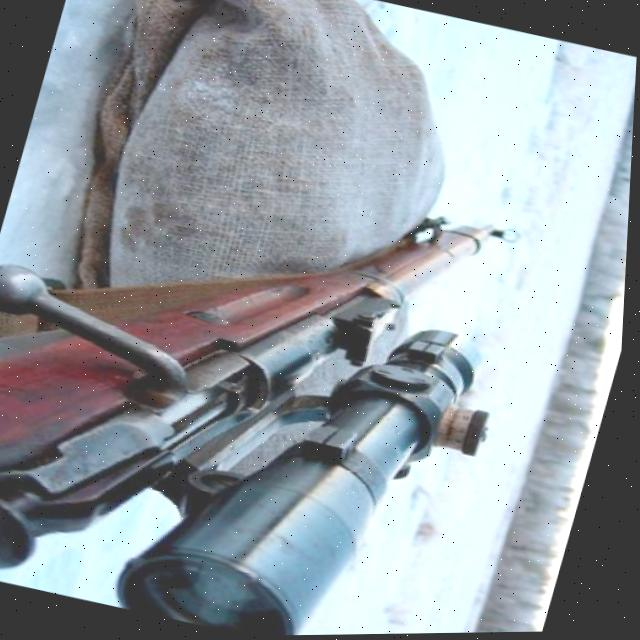firearm: (0, 115, 535, 640)
